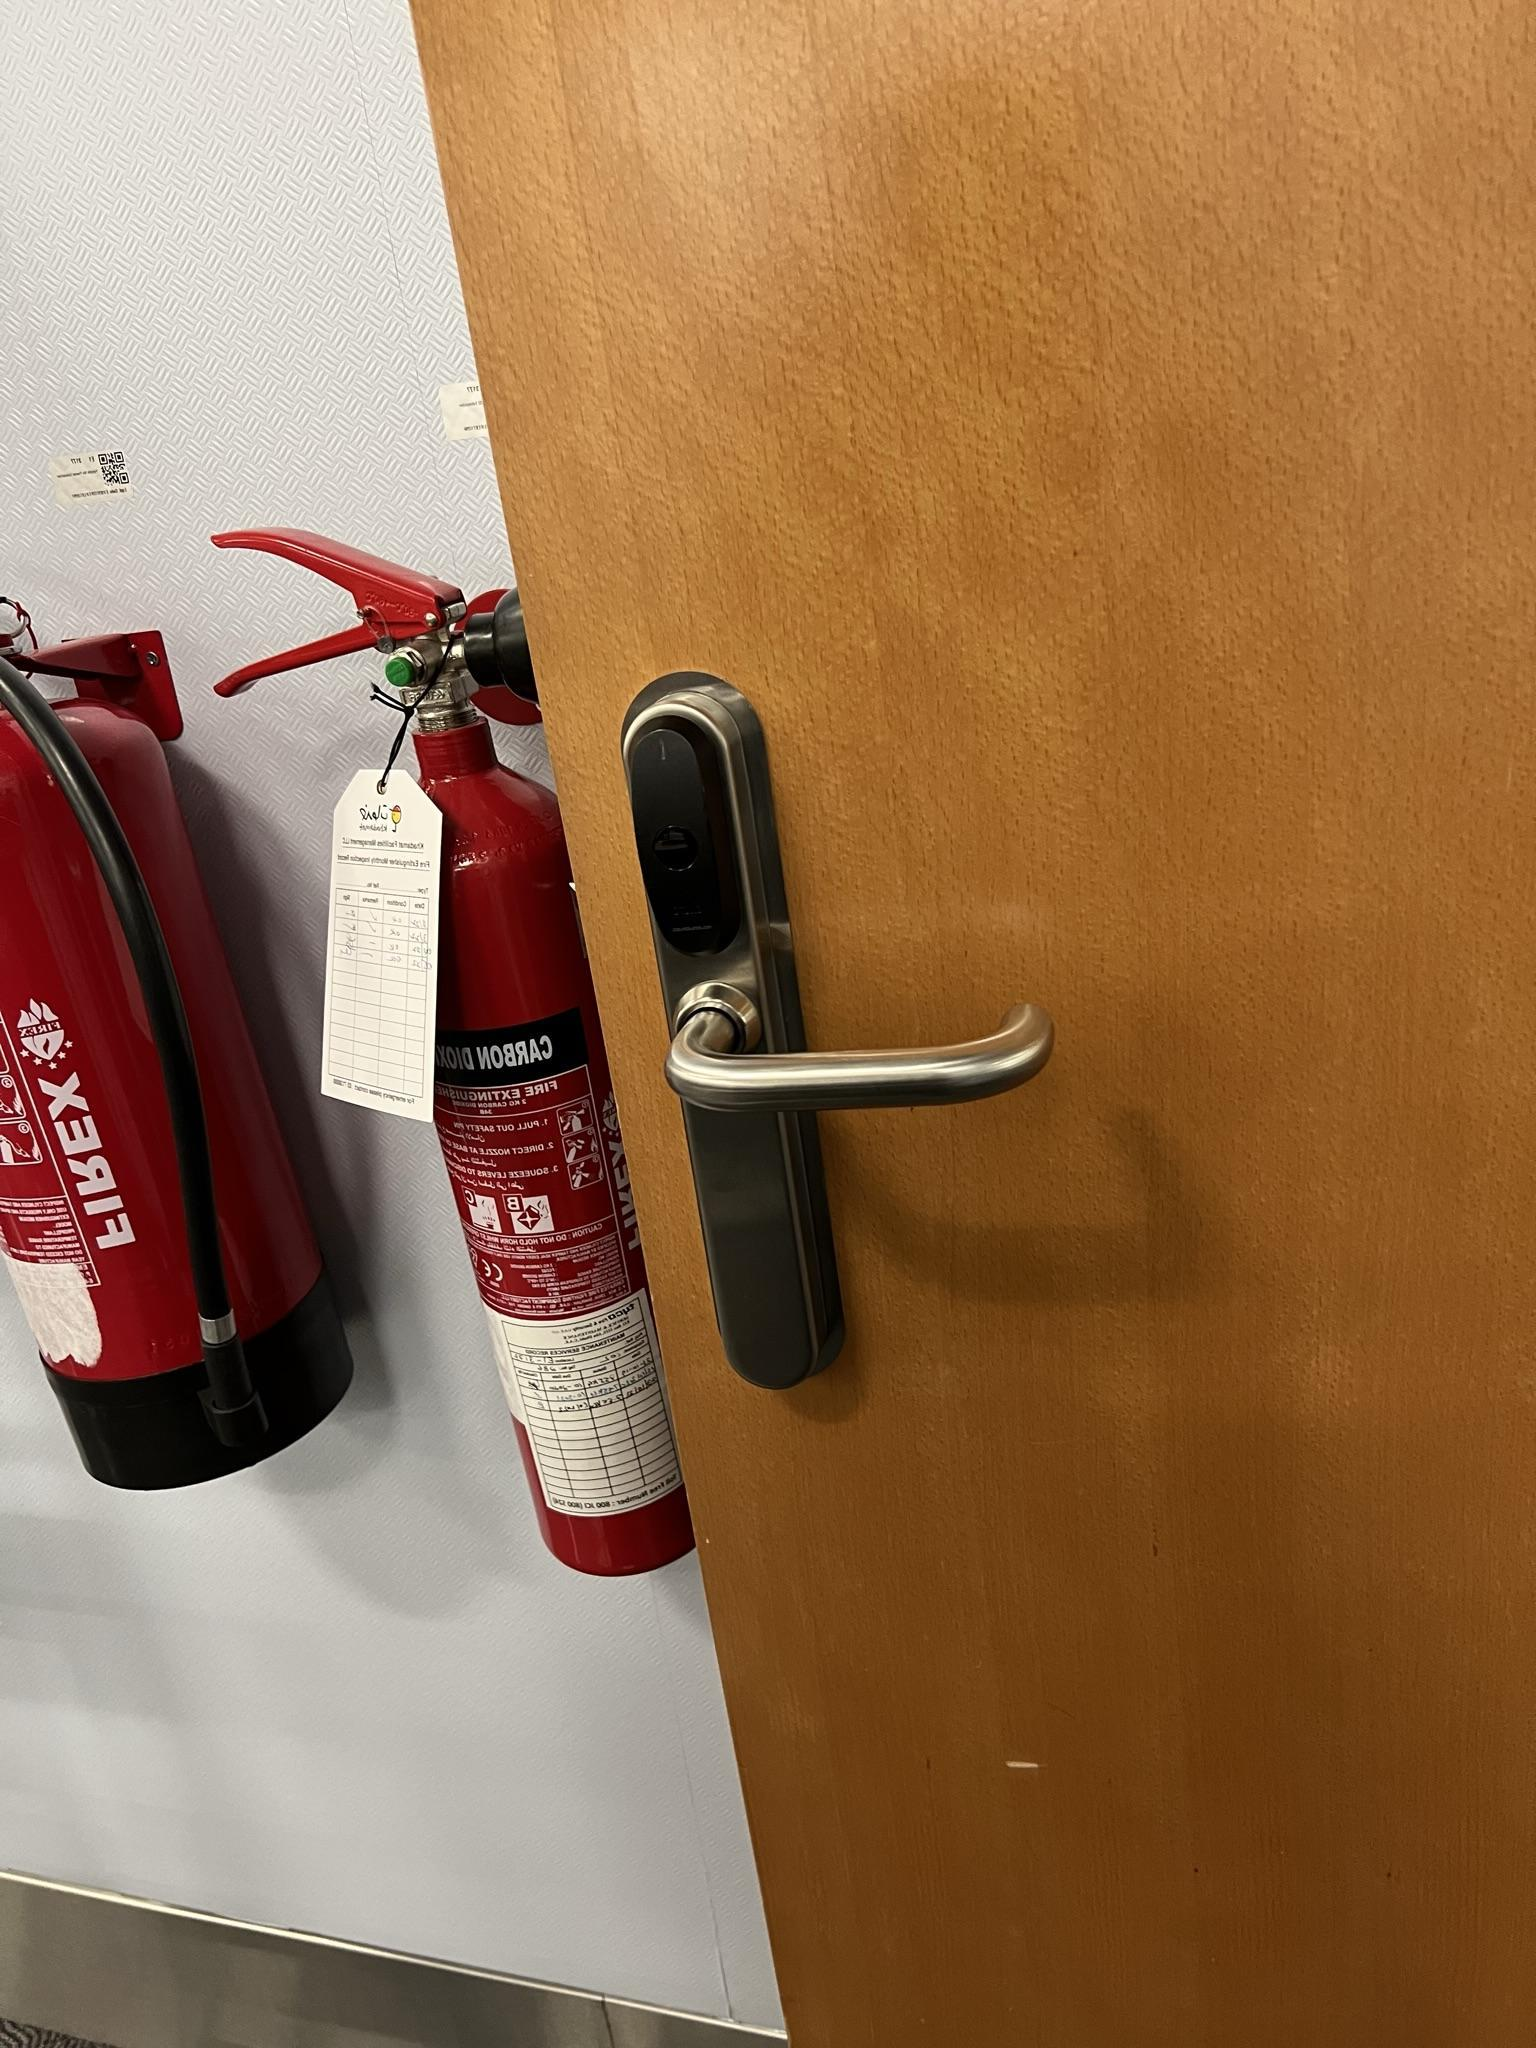handle: (607, 640, 1058, 1398)
